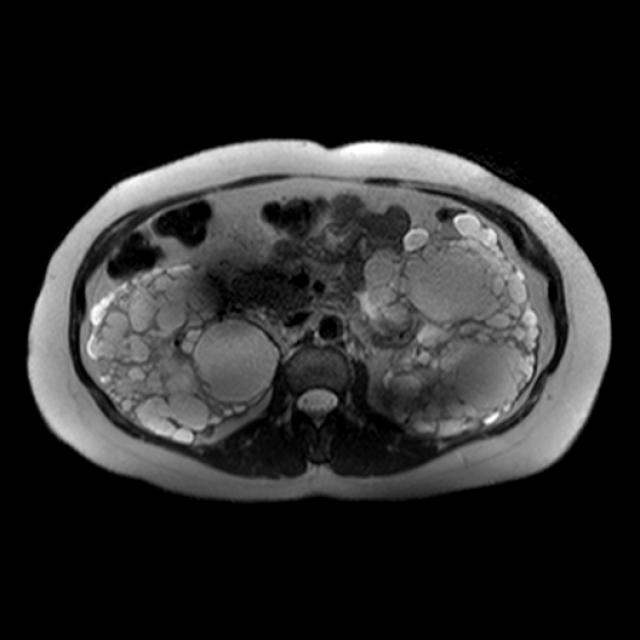sag: (86, 264, 281, 443)
sol: (365, 212, 539, 442)
